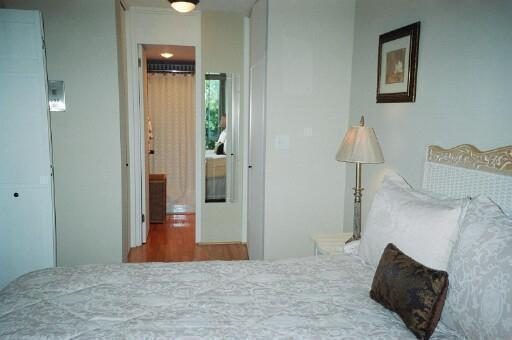Cama: (26, 261, 511, 338)
